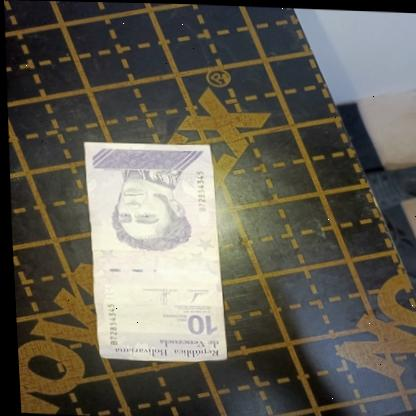ten-front-vef: (78, 139, 229, 363)
